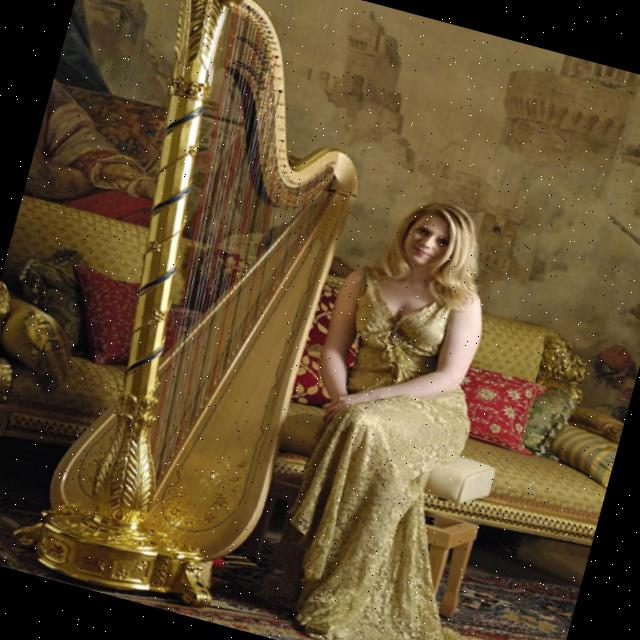harp: (0, 0, 407, 623)
